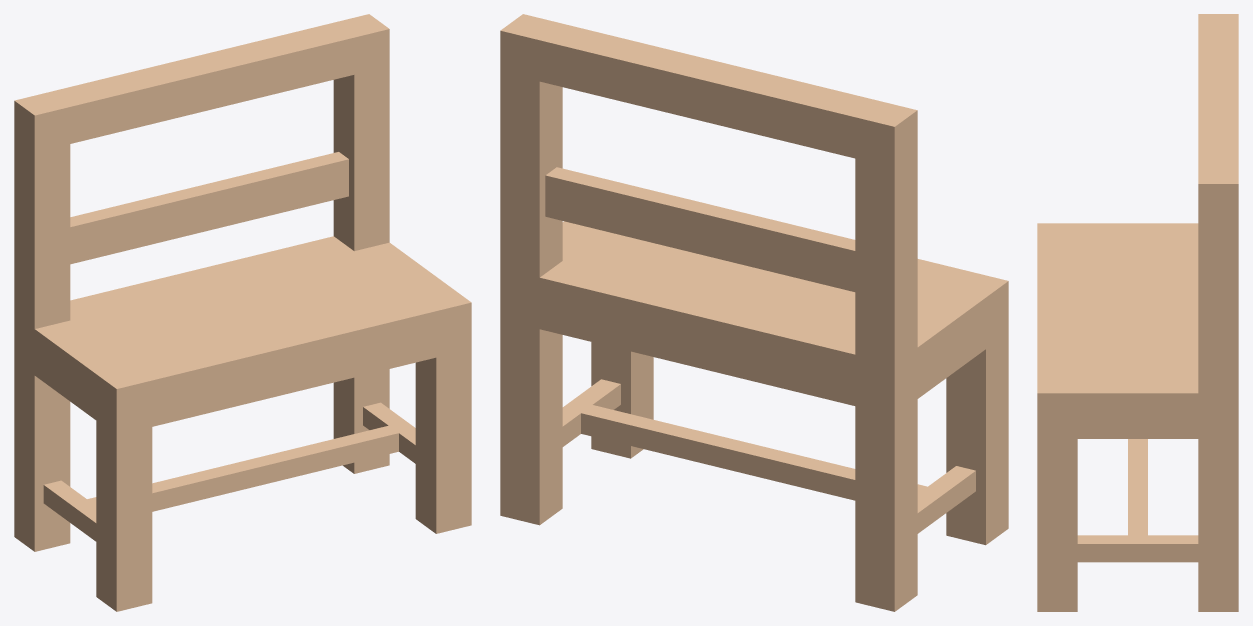
Rendered from bench.glb.
3 views of the same model, side by side, from view 1: azimuth 30°, elevation 25°; view 2: azimuth 150°, elevation 25°; view 3: azimuth 270°, elevation 25° (orthographic). The views are drawn at different scales.
Parts seen in each view (by area): view 1: bench(Clone); view 2: bench(Clone); view 3: bench(Clone).
Part boxes in pixels (<box>): bench(Clone): <box>14,14,471,611</box>; bench(Clone): <box>500,14,1008,611</box>; bench(Clone): <box>1037,14,1238,611</box>.
Bounding box in the file's own units: 0.812 × 0.9541 × 0.406.
Materials: 1 (1 with a texture image).
